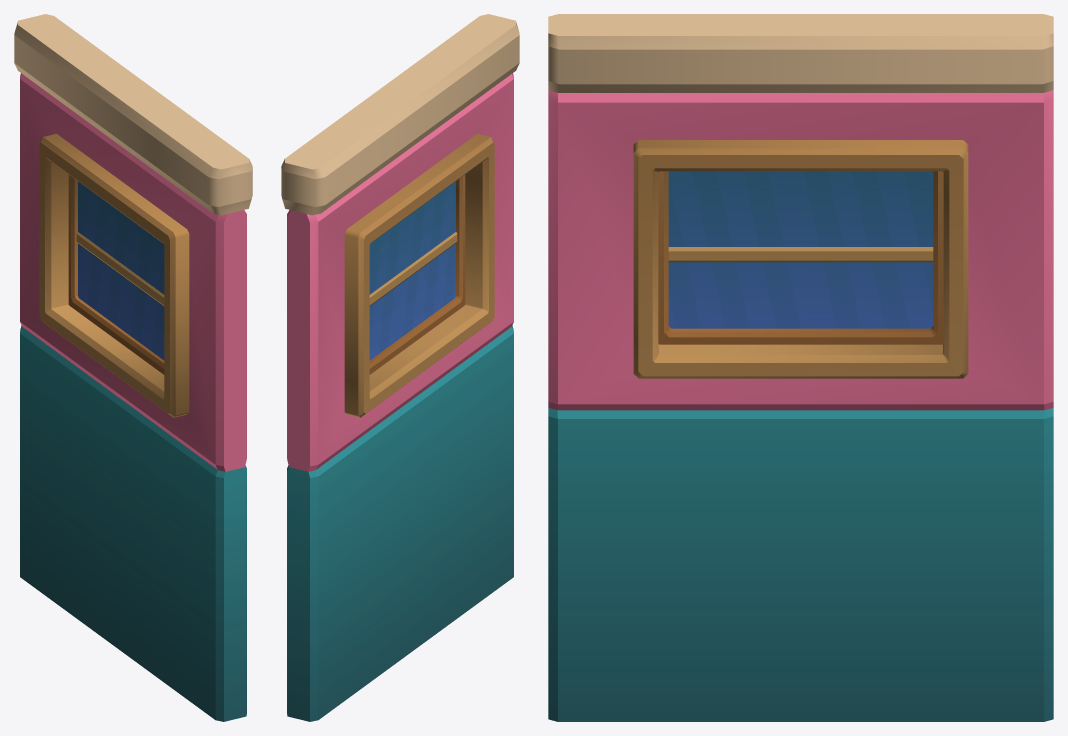
File: Wall_C_6.glb
The picture shows the model from 3 angles, left to right: view 1: azimuth 30°, elevation 25°; view 2: azimuth 150°, elevation 25°; view 3: azimuth 270°, elevation 25°; orthographic projection. The views are drawn at different scales.
Visible parts, largest first — view 1: Wall_C_6; view 2: Wall_C_6; view 3: Wall_C_6.
Part boxes in pixels (x1,y1,x2,y2): Wall_C_6: (14, 14, 252, 721); Wall_C_6: (281, 14, 519, 721); Wall_C_6: (548, 14, 1053, 721).
Size of the model in its own units: 0.3277 by 3 by 2.
2 materials, 2 textured.
